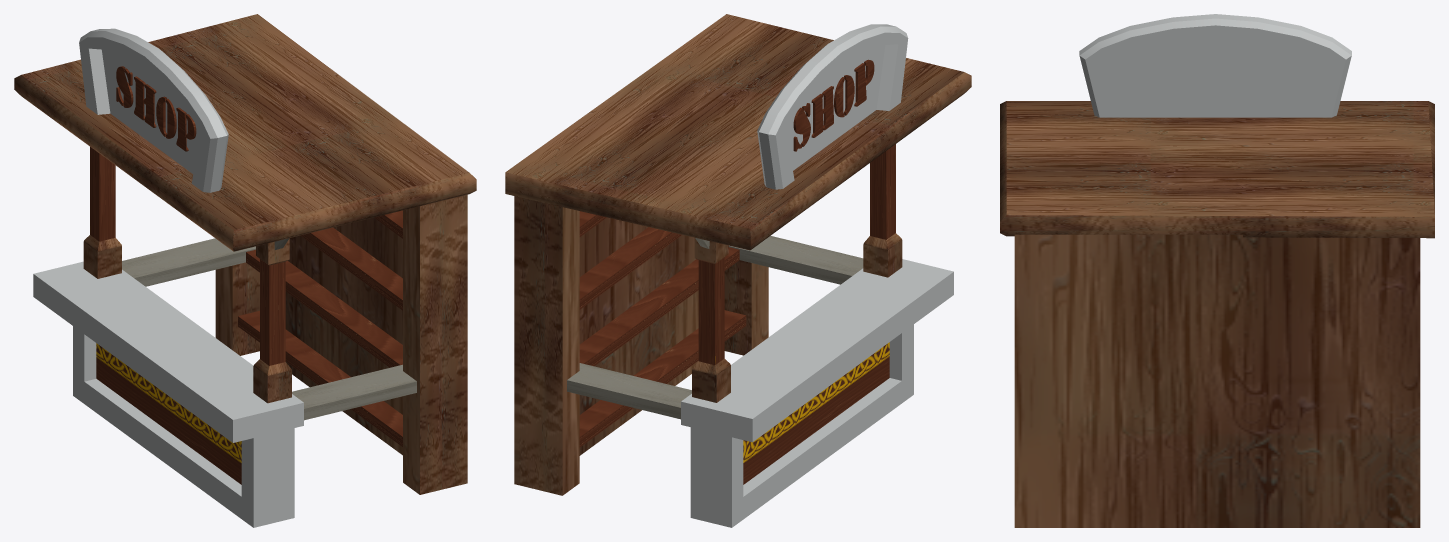
The model's file is Shop.fbx.
The picture shows the model from 3 angles, left to right: view 1: azimuth 30°, elevation 25°; view 2: azimuth 150°, elevation 25°; view 3: azimuth 270°, elevation 25°; orthographic projection.
Visible parts, largest first — view 1: pCube593, pCube589, pCube594, pCube592, pCube590, pCube603, pCube591, pCube595, pCube596, pCube604, pCube602, typeMesh1; view 2: pCube593, pCube589, pCube594, pCube592, pCube591, pCube603, pCube590, pCube596, pCube604, pCube595, pCube602, typeMesh1; view 3: pCube594, pCube593, pCube592.
Boxes of the visible parts, x1,y1,x2,y2 form: pCube593: (14,14,476,251); pCube589: (33,261,303,527); pCube594: (215,194,467,494); pCube592: (79,28,228,192); pCube590: (253,238,291,403); pCube603: (246,249,402,367); pCube591: (83,147,121,278); pCube595: (292,364,416,420); pCube596: (122,238,255,286); pCube604: (238,310,402,446); pCube602: (300,227,402,310); typeMesh1: (116,66,196,151); pCube593: (505,14,971,250); pCube589: (681,259,953,527); pCube594: (514,196,768,495); pCube592: (757,24,908,189); pCube591: (692,238,730,402); pCube603: (579,247,739,366); pCube590: (863,144,902,277); pCube596: (567,363,691,419); pCube604: (579,310,746,447); pCube595: (728,235,863,284); pCube602: (579,227,681,309); typeMesh1: (793,59,874,151); pCube594: (1014,234,1420,527); pCube593: (1000,101,1434,238); pCube592: (1079,14,1351,117).
Bounding box in the file's own units: 2.52 × 4.11 × 3.93.
